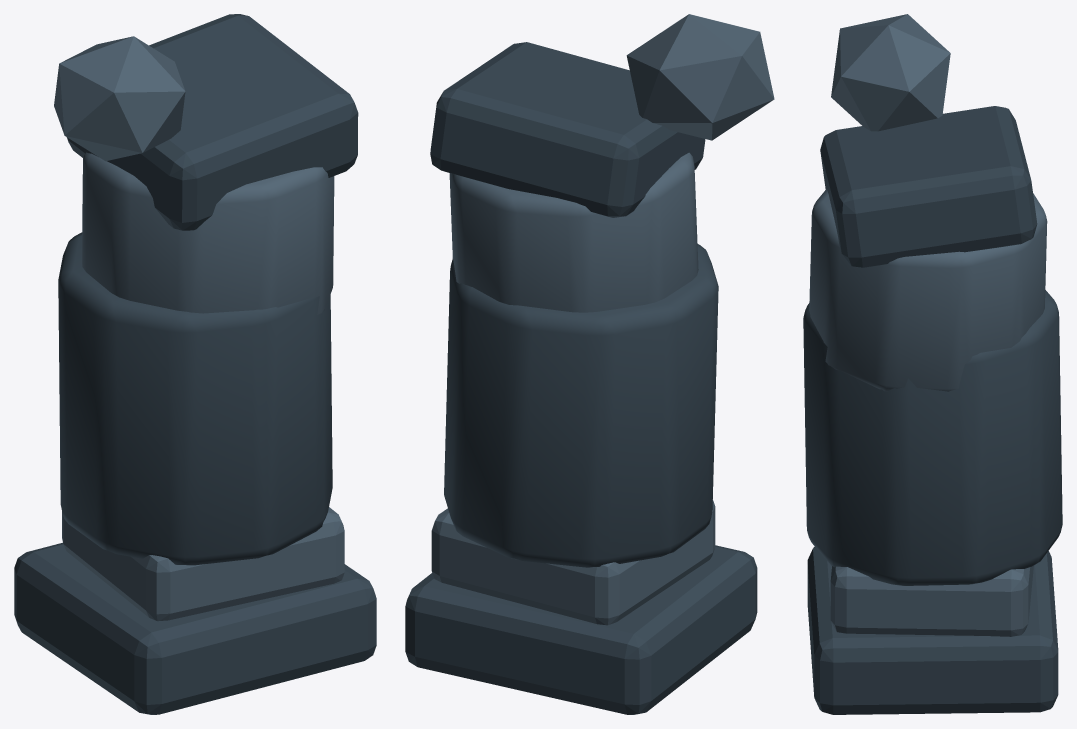
File: ENV_Pillar_A.fbx
3 renders of one model, left to right at view 1: azimuth 30°, elevation 25°; view 2: azimuth 150°, elevation 25°; view 3: azimuth 270°, elevation 25°, orthographic. The views are drawn at different scales.
Parts seen in each view (by area): view 1: ENV_Pillar_A; view 2: ENV_Pillar_A; view 3: ENV_Pillar_A.
Boxes of the visible parts, x1,y1,x2,y2 form: ENV_Pillar_A: [14, 14, 376, 714]; ENV_Pillar_A: [405, 14, 774, 714]; ENV_Pillar_A: [803, 14, 1062, 714].
Bounding box in the file's own units: 0.6972 × 1.5 × 0.5858.
